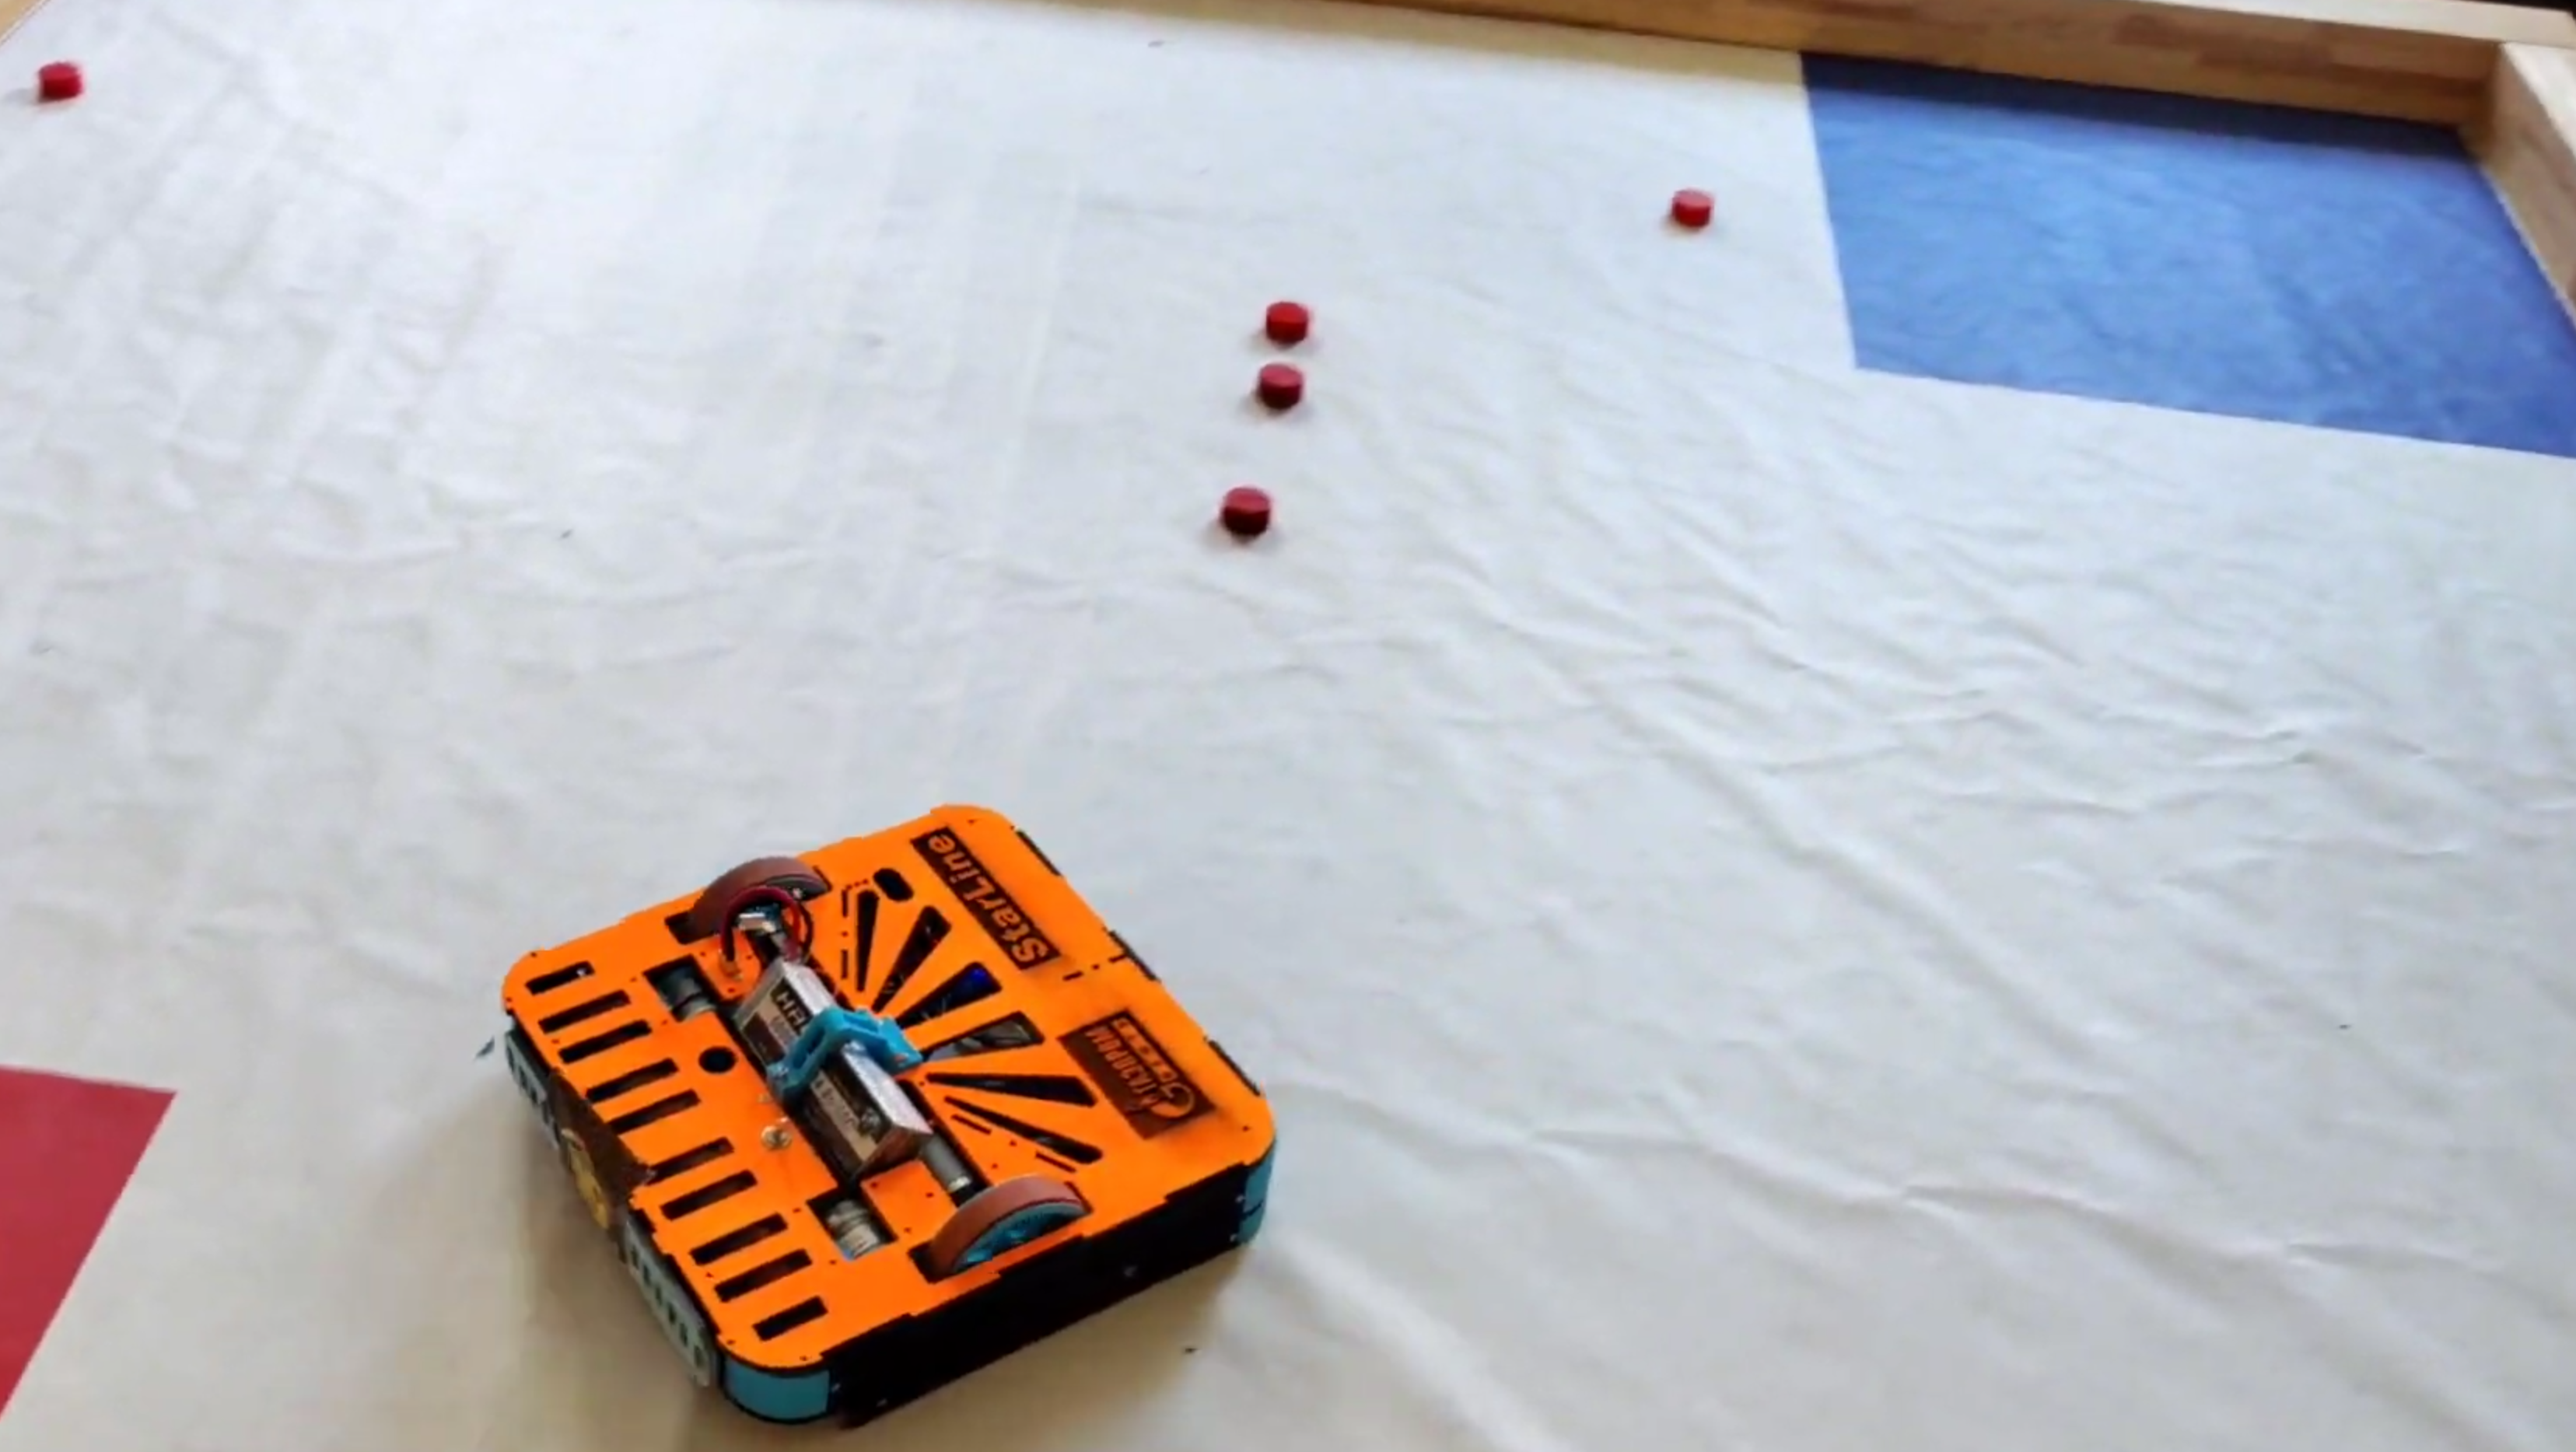base: (1801, 50, 2576, 456)
puck: (1256, 363, 1307, 410), (1224, 486, 1272, 534), (1265, 302, 1311, 345), (39, 62, 80, 101), (1672, 187, 1713, 226)
